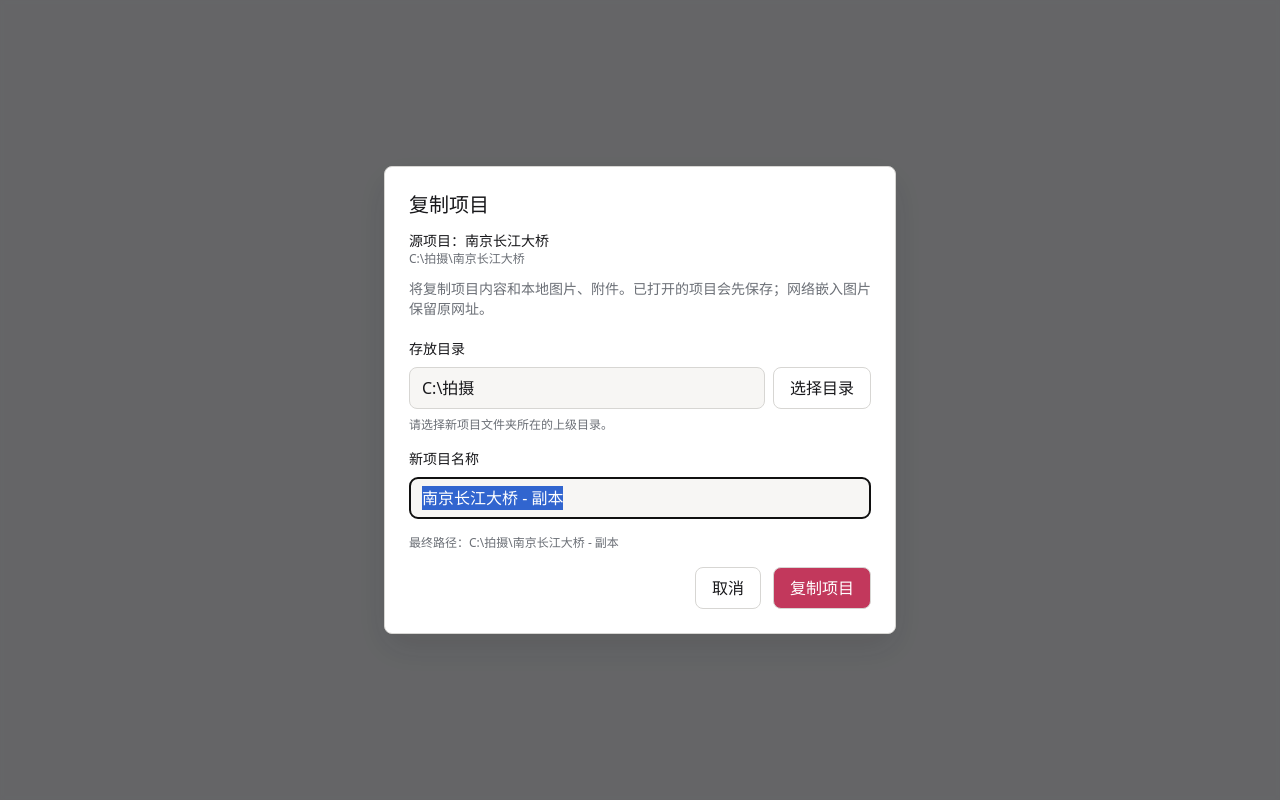
Test: copy project dialog › explains the parent path, previews the destination and preserves inputs after failure
Expected: the text "请选择新项目文件夹所在的上级目录。" is shown, top-left (409, 416), bottom-right (613, 433)
Expected: the text "最终路径：C:\\拍摄\\南京长江大桥 - 副本" is shown, top-left (409, 534), bottom-right (619, 551)
Replace the text in the field labelled "新项目名称" with "第二次拍摄": (640, 498) top-left (409, 477), bottom-right (871, 519)
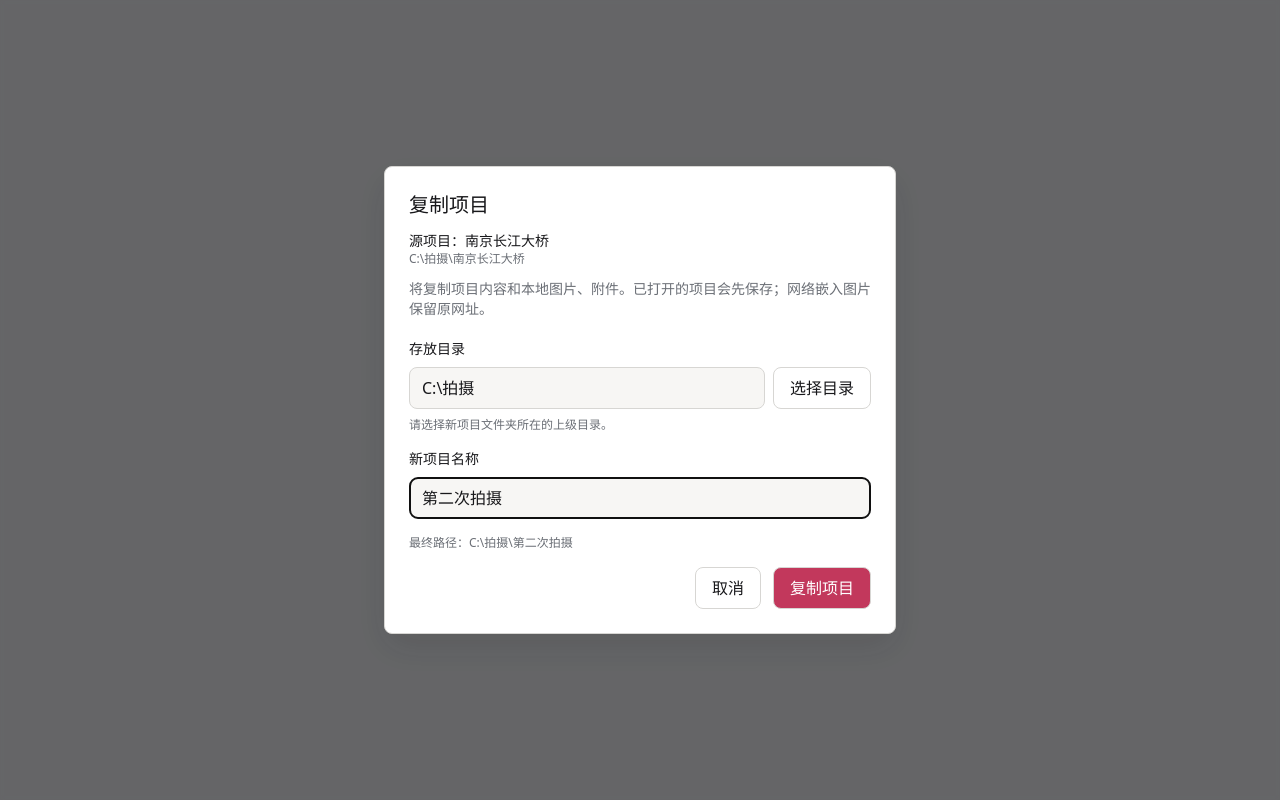
Click the button "复制项目": (822, 588) top-left (773, 567), bottom-right (871, 609)
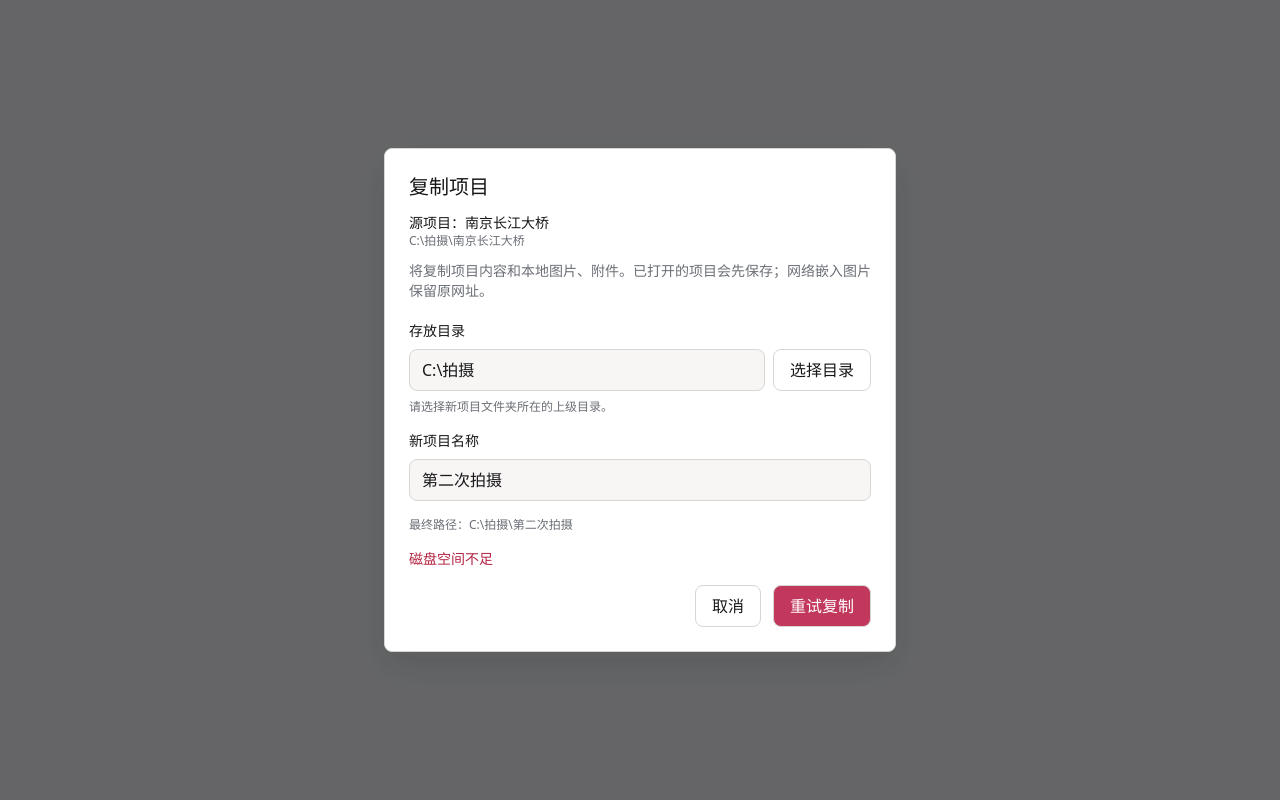
Now the text "磁盘空间不足" is shown, box top-left (409, 549), bottom-right (493, 568)
